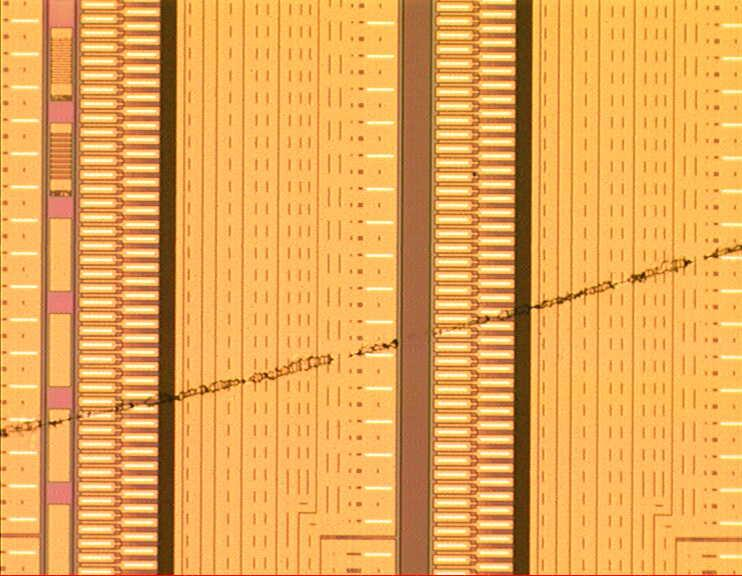SCRATCH: (1, 233, 742, 446)
